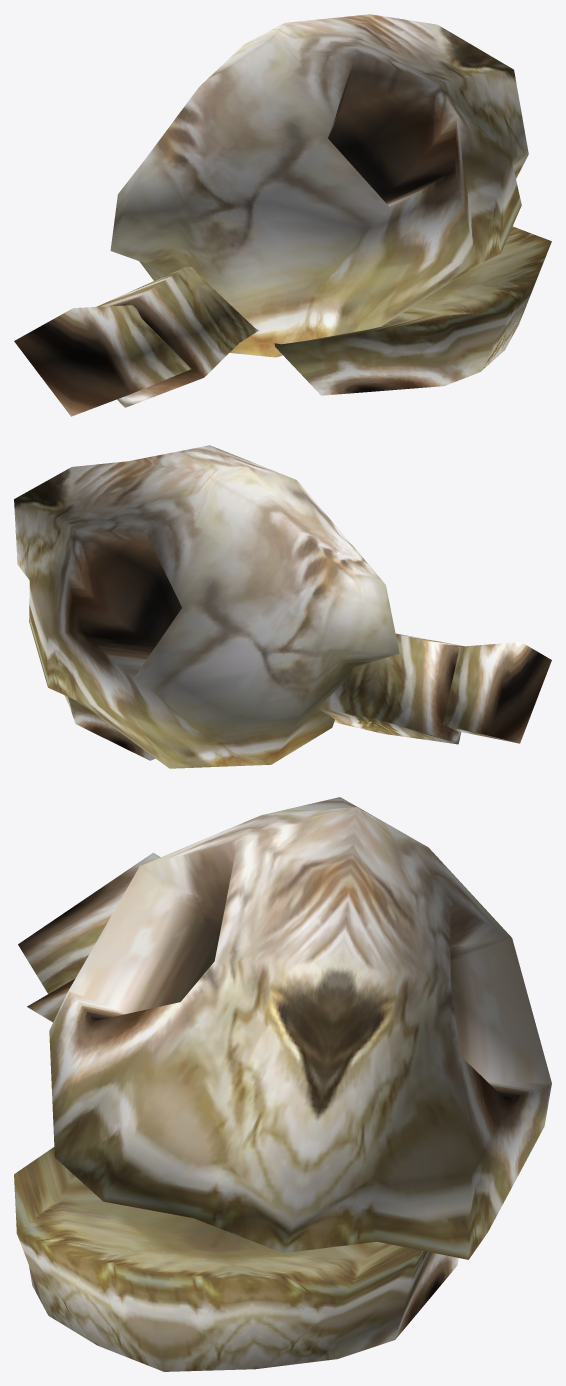
Rendered from giantseaturtle03.obj.
The picture shows the model from 3 angles, top to bottom: view 1: azimuth 30°, elevation 25°; view 2: azimuth 150°, elevation 25°; view 3: azimuth 270°, elevation 25°; orthographic projection. The views are drawn at different scales.
Parts seen in each view (by area): view 1: GIANTSEATURTLE030; view 2: GIANTSEATURTLE030; view 3: GIANTSEATURTLE030.
Boxes of the visible parts, left/top/right/bottom form: GIANTSEATURTLE030: left=14, top=14, right=551, bottom=416; GIANTSEATURTLE030: left=14, top=445, right=551, bottom=768; GIANTSEATURTLE030: left=14, top=797, right=551, bottom=1371.
Bounding box in the file's own units: 7.34 × 4.03 × 4.45.
1 material, 1 textured.
